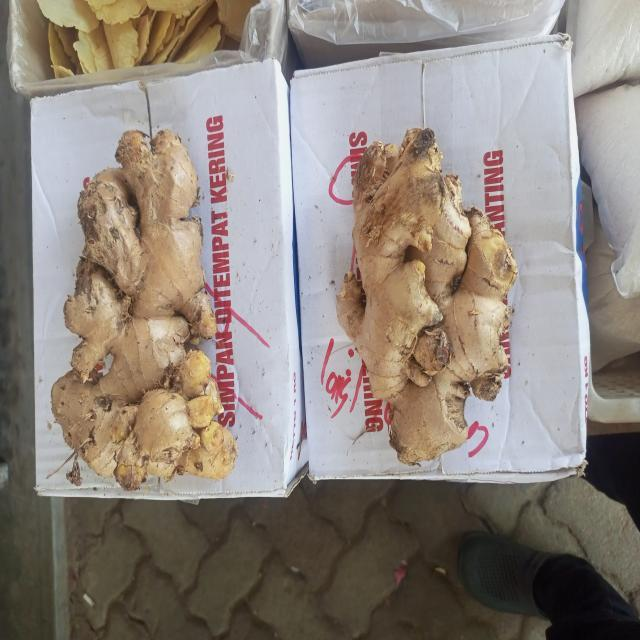ginger: (54, 138, 236, 490), (345, 137, 516, 450)
